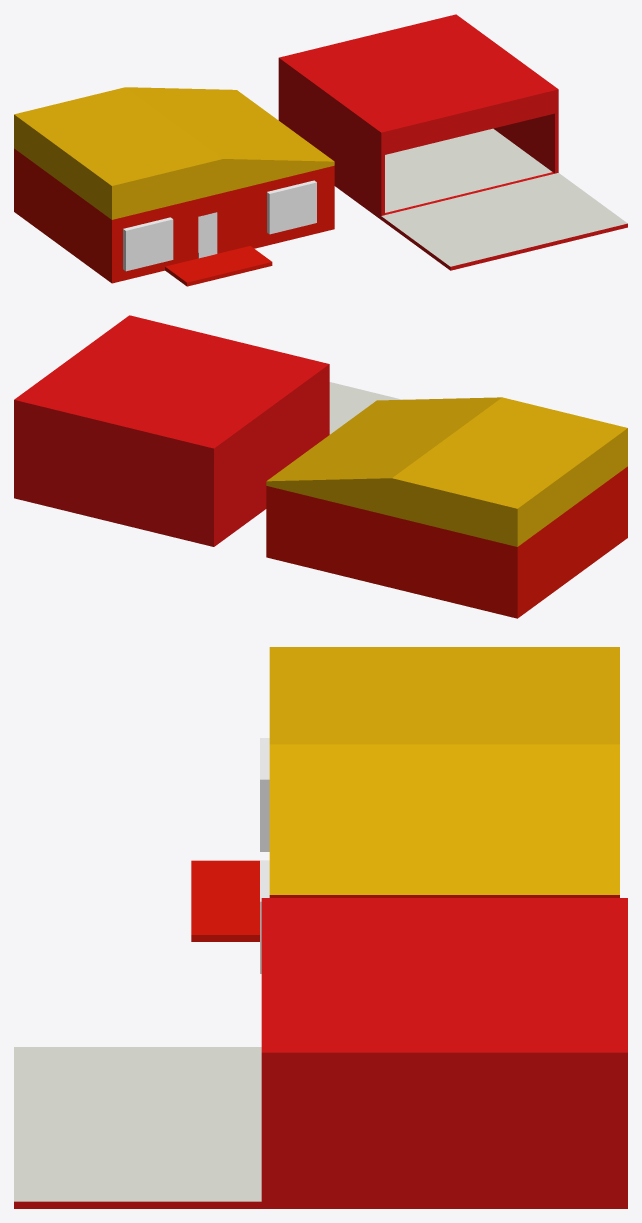
Rendered from casa.glb.
The picture shows the model from 3 angles, top to bottom: view 1: azimuth 30°, elevation 25°; view 2: azimuth 150°, elevation 25°; view 3: azimuth 270°, elevation 25°; orthographic projection. The views are drawn at different scales.
Parts seen in each view (by area): view 1: Plane.001, Plane, CTRL_Hole.004, CTRL_Hole.003, CTRL_Hole.002; view 2: Plane, Plane.001; view 3: Plane.001, Plane, CTRL_Hole.004.
Part boxes in pixels (x1,y1,x2,y2): Plane.001: (278, 14, 627, 270); Plane: (14, 87, 334, 286); CTRL_Hole.004: (123, 217, 173, 271); CTRL_Hole.003: (267, 180, 316, 234); CTRL_Hole.002: (198, 212, 217, 258); Plane: (266, 397, 627, 618); Plane.001: (14, 315, 401, 546); Plane.001: (14, 898, 627, 1208); Plane: (191, 647, 619, 941); CTRL_Hole.004: (260, 738, 269, 851).
Size of the model in its own units: 23.41 by 4.91 by 15.67.
